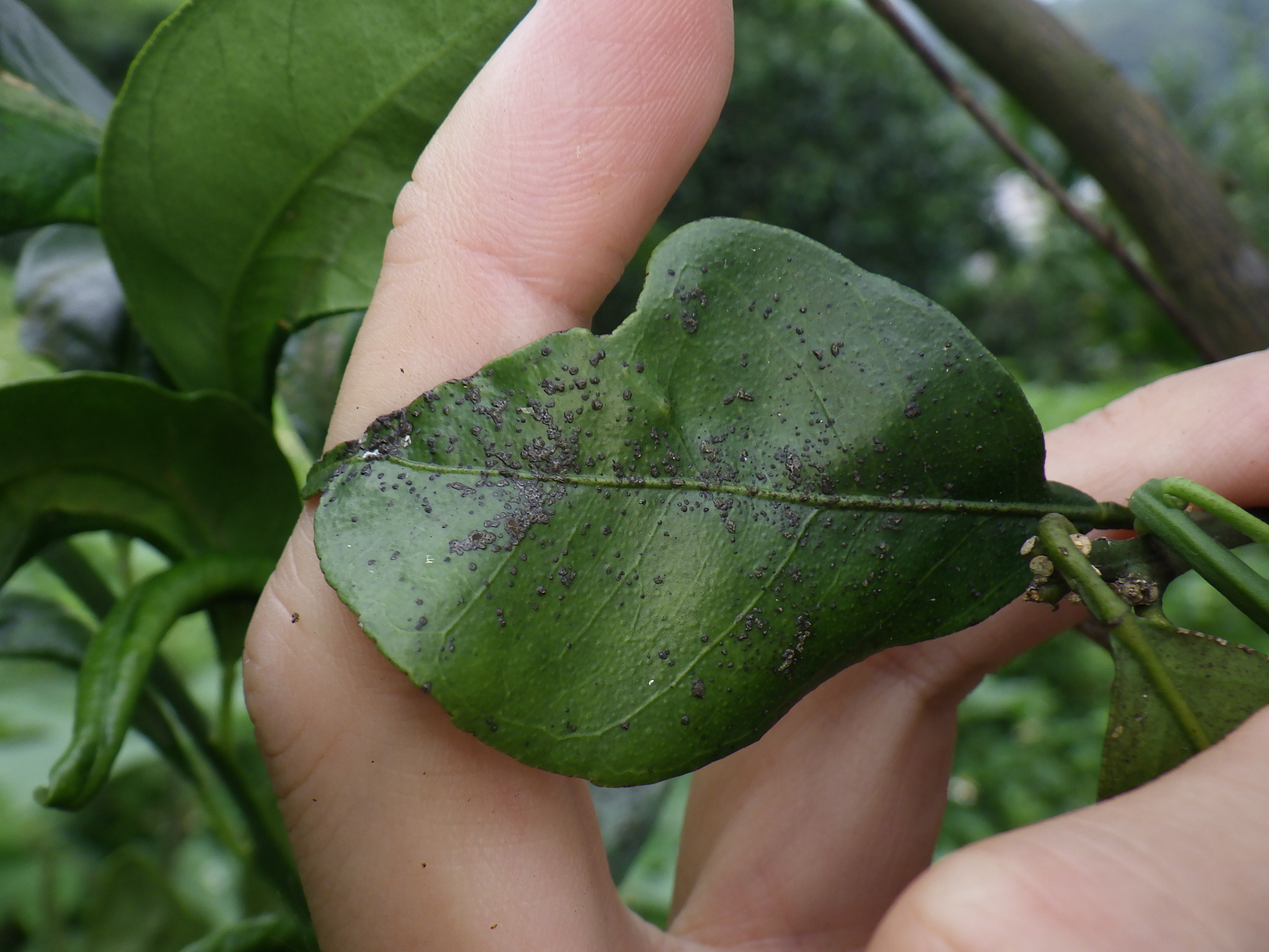Black_Spot: (310, 219, 1132, 785)
